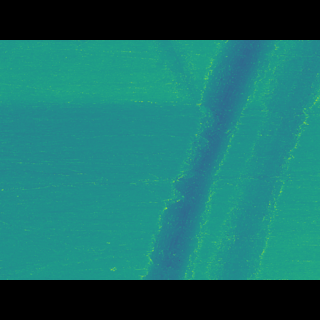Loch: (138, 68, 320, 249)
